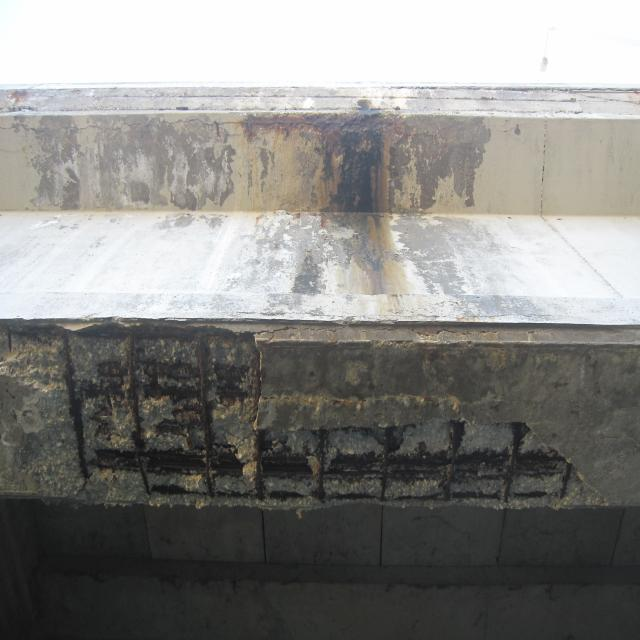corrosion: (3, 323, 595, 513), (241, 106, 426, 300), (519, 220, 522, 226)
